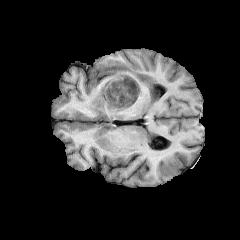glioma: (100, 61, 160, 117)
